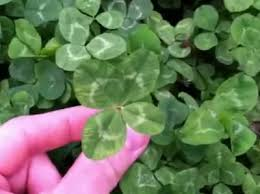4-clover: (73, 52, 166, 159)
